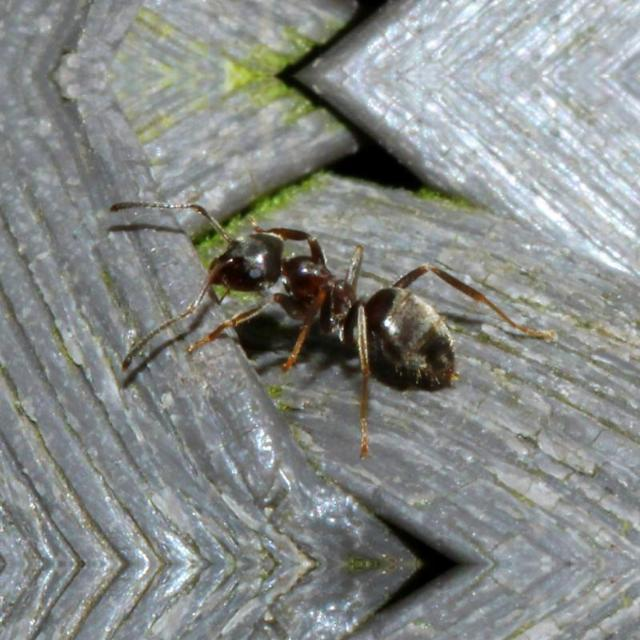Lasius: (135, 178, 481, 420)
